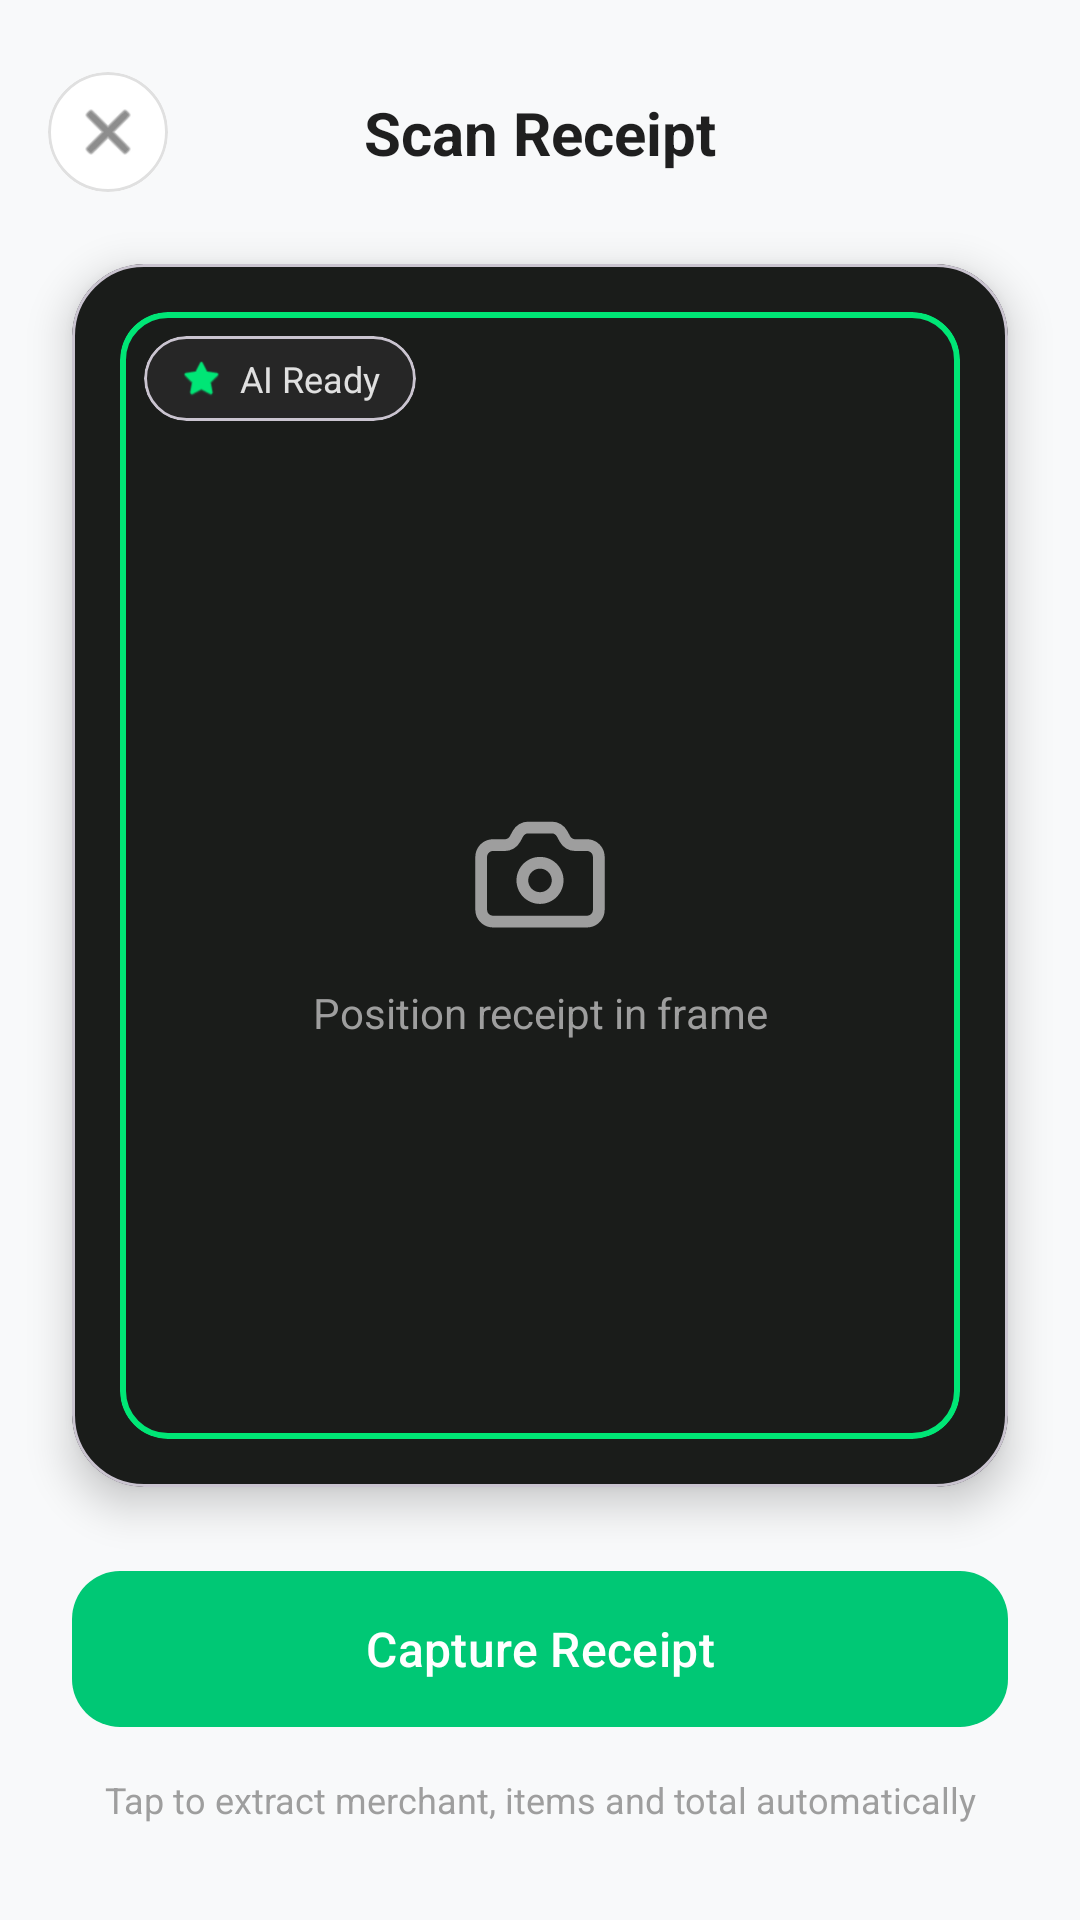

Icons on this 1080w x 1920h Android screen, each with its box as (x1, y1, x2, y2):
camera: (475, 821, 605, 928)
close clear cancel: (86, 110, 130, 154)
star: (184, 361, 219, 395)
